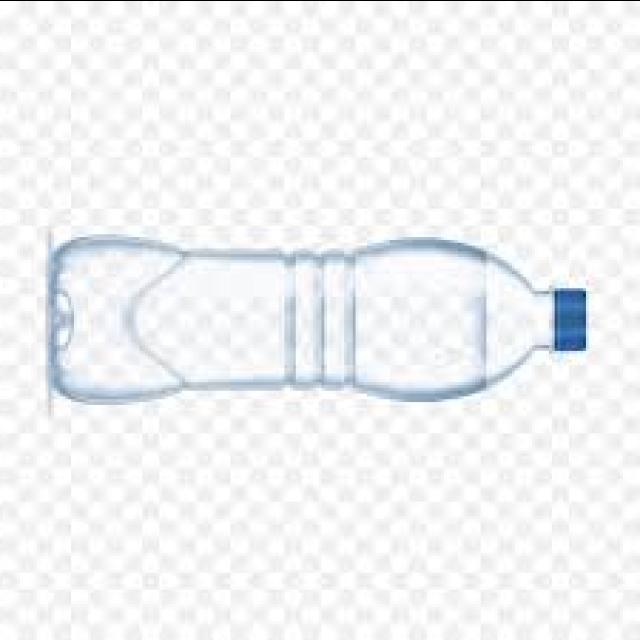plastic cup: (52, 238, 586, 402)
